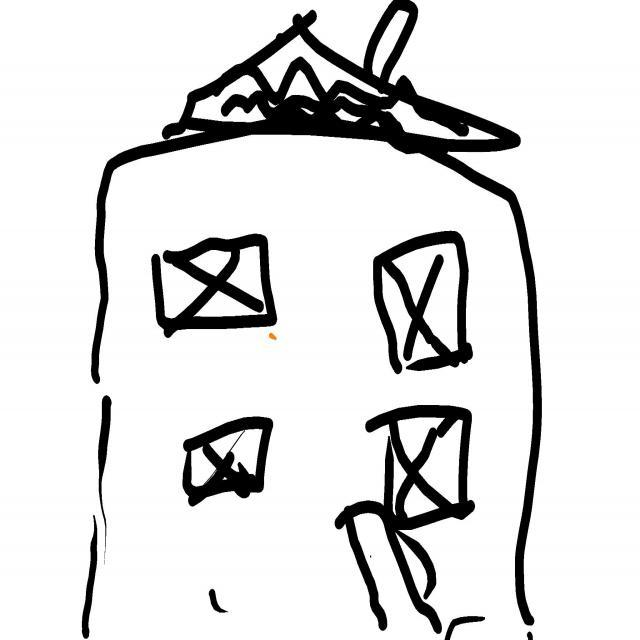chimney: (364, 0, 424, 83)
door: (340, 498, 443, 640)
house: (84, 1, 581, 640)
roof: (150, 11, 527, 156)
wall: (109, 131, 536, 640)
window: (374, 232, 473, 374), (152, 235, 277, 338), (376, 404, 471, 531), (183, 419, 273, 506)
